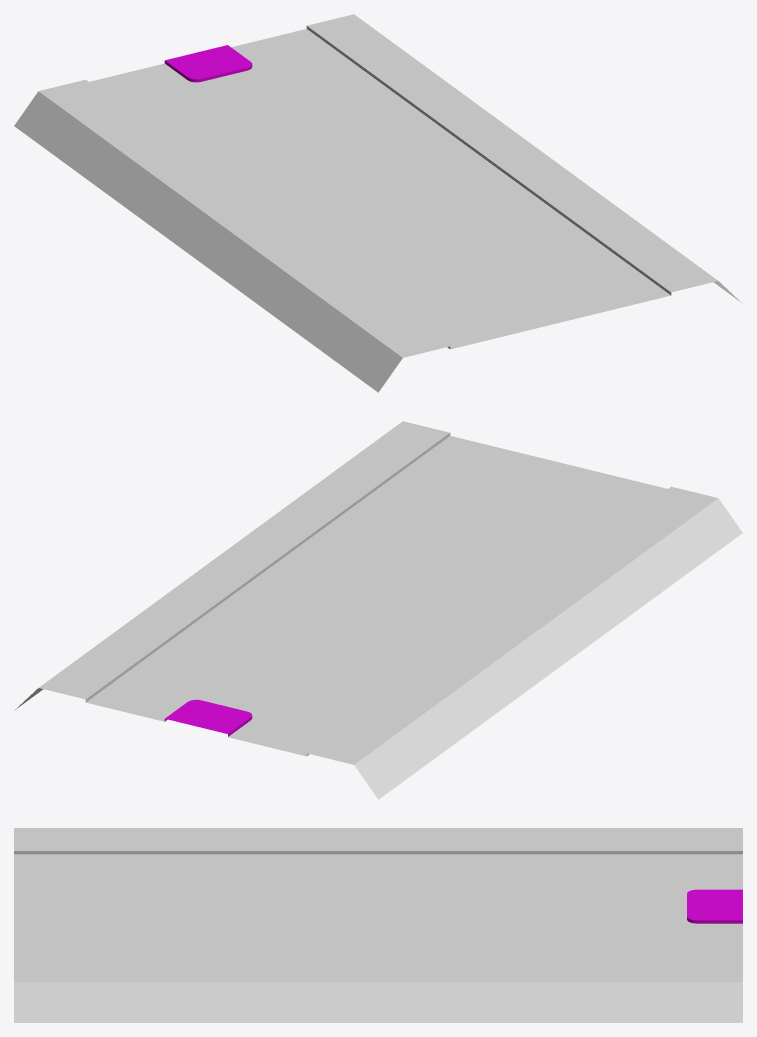
File: Medium Road Decoration Grass_node_0.fbx
3 views of the same model, one above another, from view 1: azimuth 30°, elevation 25°; view 2: azimuth 150°, elevation 25°; view 3: azimuth 270°, elevation 25° (orthographic).
Visible parts, largest first — view 1: RoadMediumNode; view 2: RoadMediumNode; view 3: RoadMediumNode.
Part boxes in pixels (x1,y1,x2,y2): RoadMediumNode: [14, 14, 742, 392]; RoadMediumNode: [14, 421, 742, 799]; RoadMediumNode: [14, 828, 742, 1022].
Size of the model in its own units: 36.96 by 2.8 by 64.
